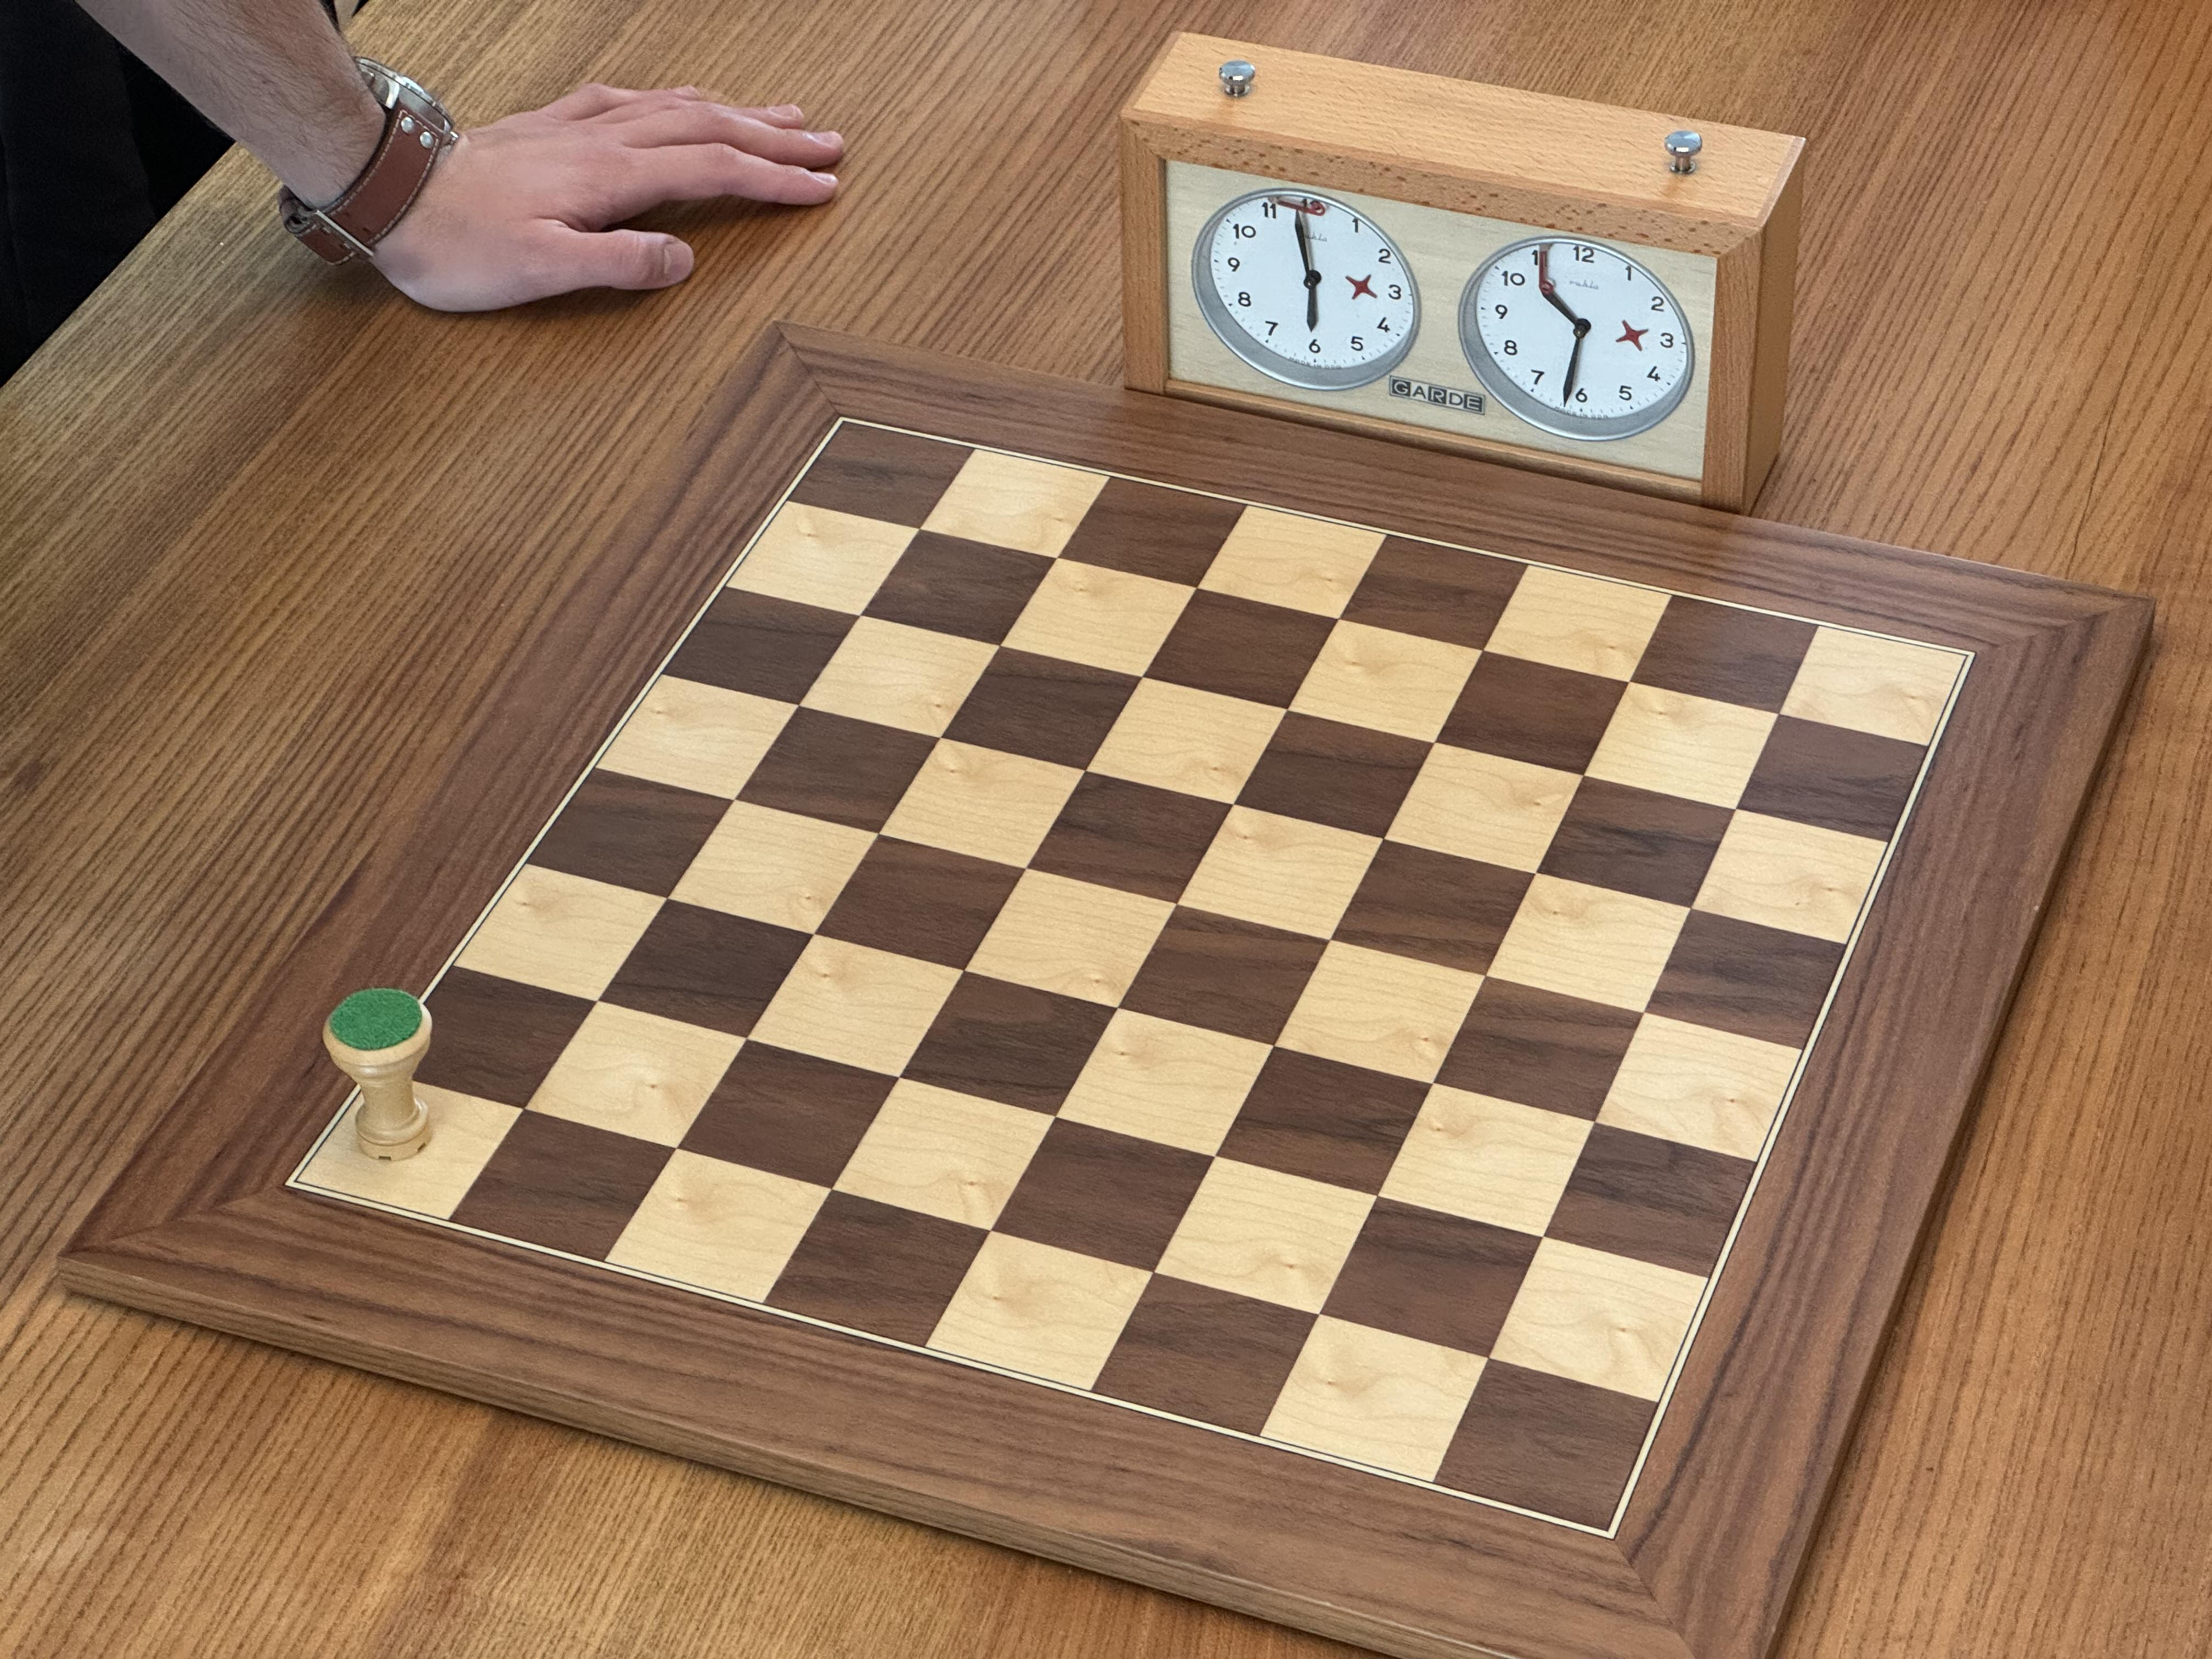White Extra Queen: (319, 983, 441, 1166)
